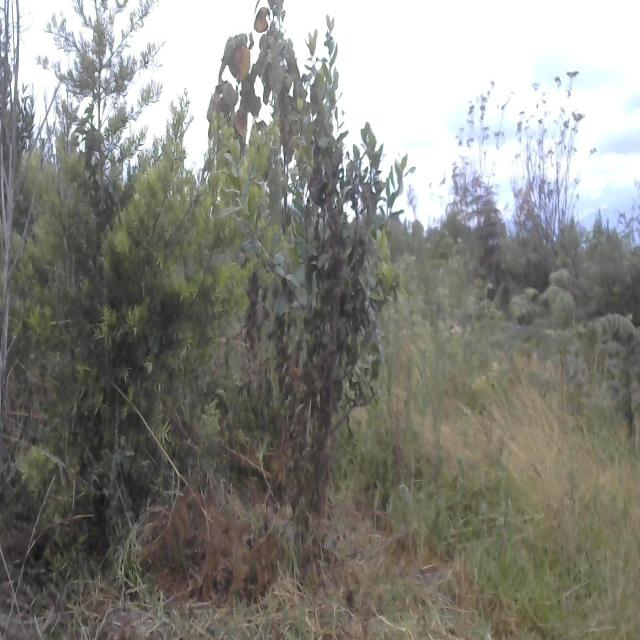cedrus: (16, 2, 251, 554)
other: (207, 0, 427, 585)
